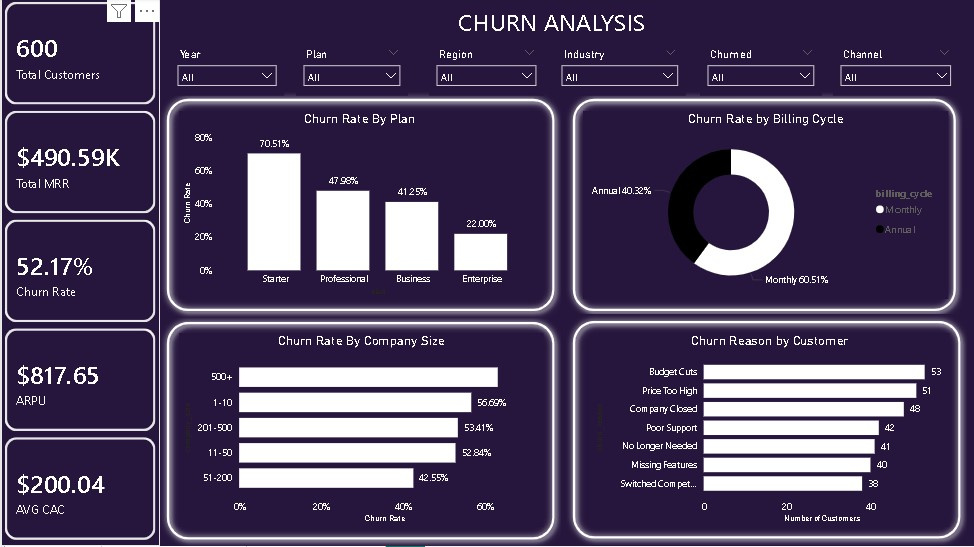

This screenshot's page, from the dashboard's own definition file:
{"tool":"powerbi","page":{"name":"CHURN  ANALYSIS","canvas":[1280,720],"ordinal":2},"visuals":[{"type":"shape","box":[208.7,416.2,527.2,304],"z":0},{"type":"shape","box":[742,123.1,521.2,296.8],"z":1000},{"type":"shape","box":[742,415,527.2,304],"z":2000},{"type":"shape","box":[208.7,123.1,527.2,296.8],"z":3000},{"type":"cardVisual","fields":{"Data":["subscriptions.Total Customers","subscriptions.Total MRR","subscriptions.Churn Rate","subscriptions.ARPU","subscriptions.AVG CAC"]},"box":[0,0,208.7,720.2],"z":4000},{"type":"clusteredColumnChart","title":"Churn Rate By Plan","fields":{"Category":["subscriptions.plan"],"Y":["subscriptions.Churn Rate"]},"box":[234,148.4,475.3,247.3],"z":5000},{"type":"clusteredBarChart","title":"Churn Reason by Customer","fields":{"Category":["subscriptions.churn_reason"],"Y":["subscriptions.Total Customers"]},"box":[774.5,440.4,470.5,254.6],"z":6000},{"type":"slicer","fields":{"Values":["subscriptions.plan"]},"box":[387.3,60.5,147.2,67.6],"z":7000},{"type":"slicer","fields":{"Values":["subscriptions.region"]},"box":[562.2,60.5,150.8,67.6],"z":8000},{"type":"slicer","fields":{"Values":["subscriptions.industry"]},"box":[726.3,60.5,172.5,67.6],"z":9000},{"type":"slicer","fields":{"Values":["subscriptions.churned"]},"box":[918.1,60.5,160.5,67.6],"z":10000},{"type":"slicer","fields":{"Values":["subscriptions.acquisition_channel"]},"box":[1093,60.5,165.3,67.6],"z":11000},{"type":"slicer","fields":{"Values":["monthly_revenue.month.Variation.Date Hierarchy.Year"]},"box":[222,60.5,149.6,67.6],"z":12000},{"type":"donutChart","title":"Churn Rate by Billing Cycle","fields":{"Category":["subscriptions.billing_cycle"],"Y":["subscriptions.Churn Rate"]},"box":[764.9,148.4,480.2,247.3],"z":13000},{"type":"shape","box":[252.1,0,942.2,60.3],"z":14000},{"type":"clusteredBarChart","title":"Churn Rate By Company Size","fields":{"Y":["subscriptions.Churn Rate"],"Category":["subscriptions.company_size"]},"box":[234,440.4,479,254.6],"z":15000}]}

Visuals, with their boxes in screenshot pixels (x1, y1, x2, y2), scaled from the page's 1280x720 canvas onto the 974x547 screenshot:
shape: Rect(159, 316, 560, 546)
shape: Rect(565, 94, 961, 319)
shape: Rect(565, 315, 966, 546)
shape: Rect(159, 94, 560, 319)
cardVisual - subscriptions.Total Customers x subscriptions.Total MRR: Rect(0, 0, 159, 546)
"Churn Rate By Plan" clusteredColumnChart: Rect(178, 113, 540, 301)
"Churn Reason by Customer" clusteredBarChart: Rect(589, 335, 947, 528)
slicer - subscriptions.plan: Rect(295, 46, 407, 97)
slicer - subscriptions.region: Rect(428, 46, 543, 97)
slicer - subscriptions.industry: Rect(553, 46, 684, 97)
slicer - subscriptions.churned: Rect(699, 46, 821, 97)
slicer - subscriptions.acquisition_channel: Rect(832, 46, 957, 97)
slicer - monthly_revenue.month.Variation.Date Hierarchy.Year: Rect(169, 46, 283, 97)
"Churn Rate by Billing Cycle" donutChart: Rect(582, 113, 947, 301)
shape: Rect(192, 0, 909, 46)
"Churn Rate By Company Size" clusteredBarChart: Rect(178, 335, 543, 528)
